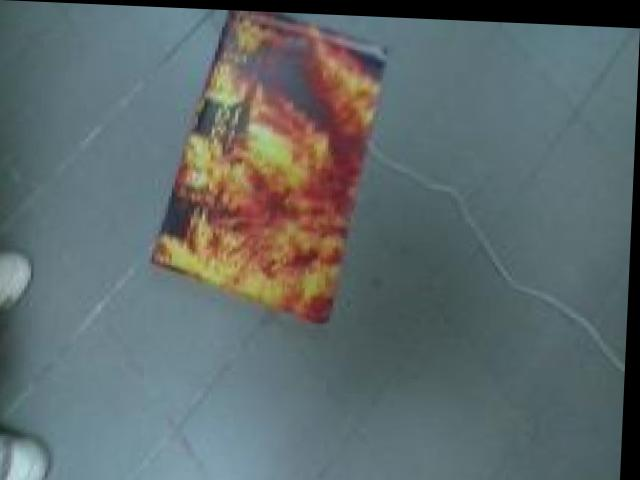fire-poster: (146, 5, 394, 327)
